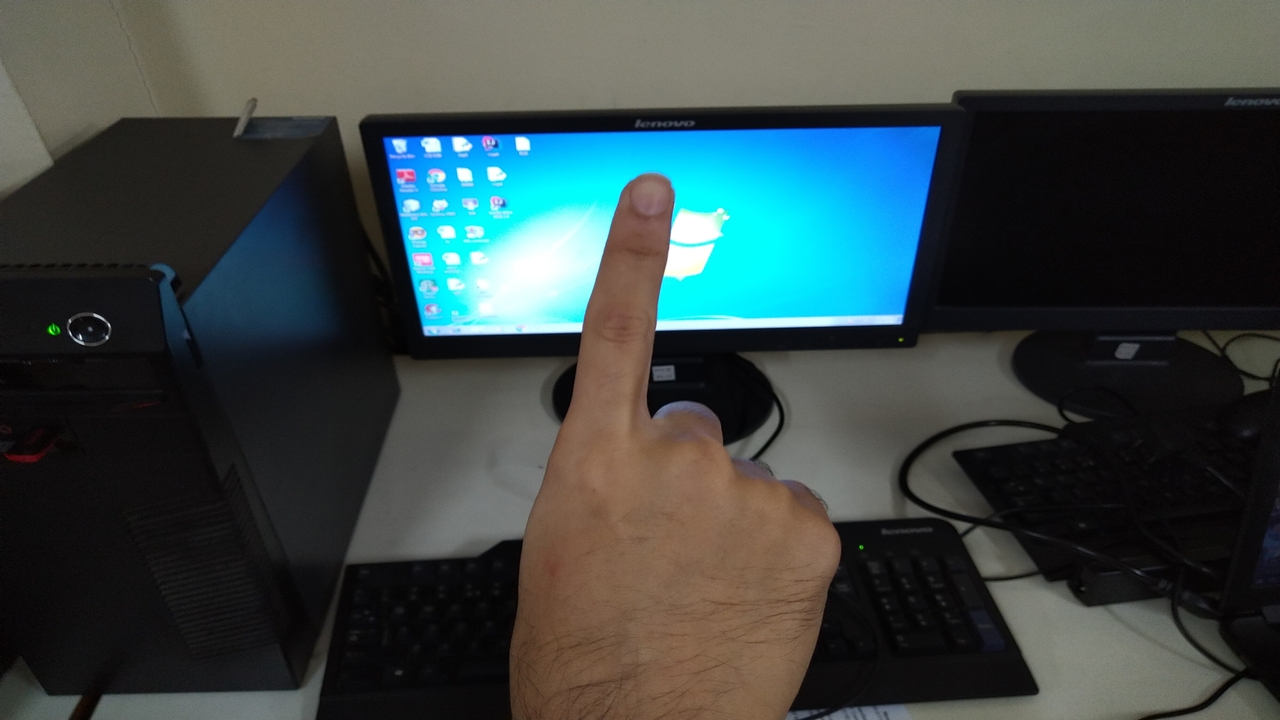fingertip: (610, 168, 680, 230)
